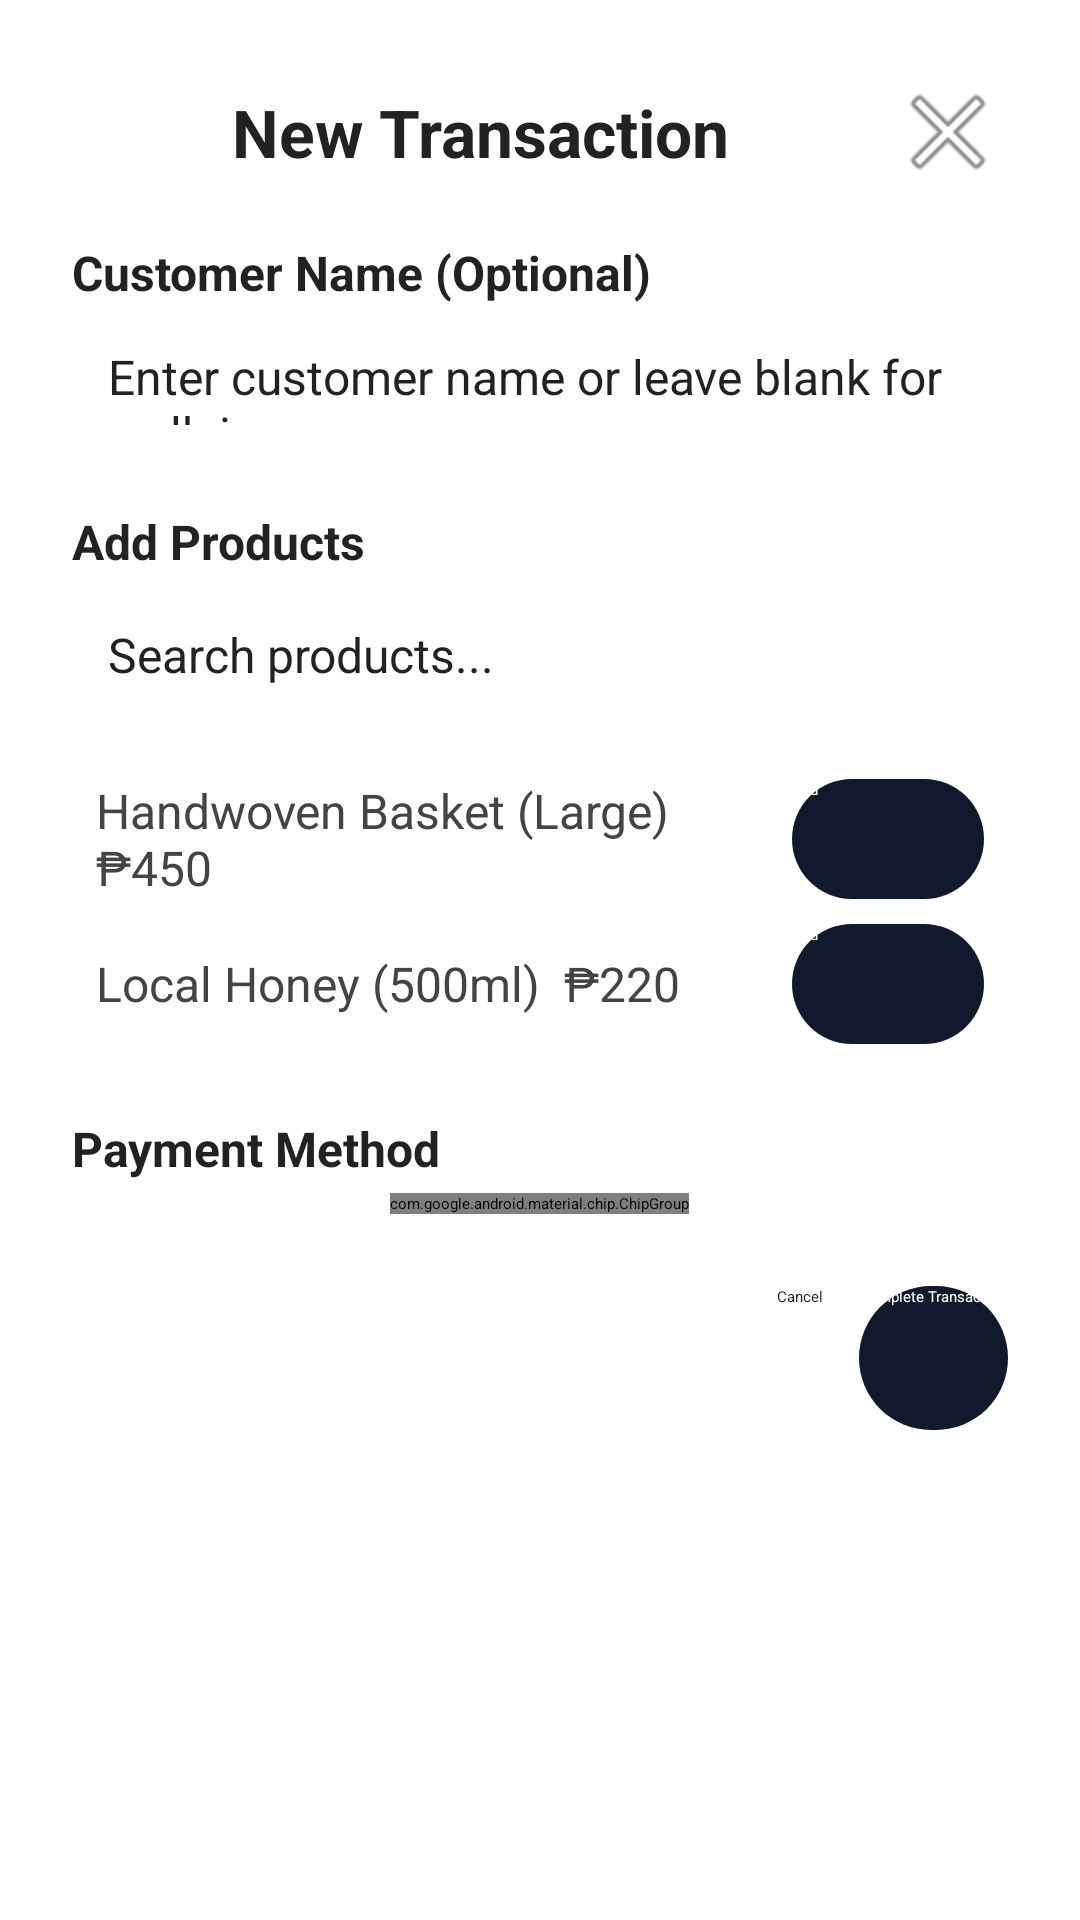

Icon bounding boxes for this 1080px x 1920px phone screenshot, format (x1, y1, x2, y2):
Close: (910, 94, 986, 170)
